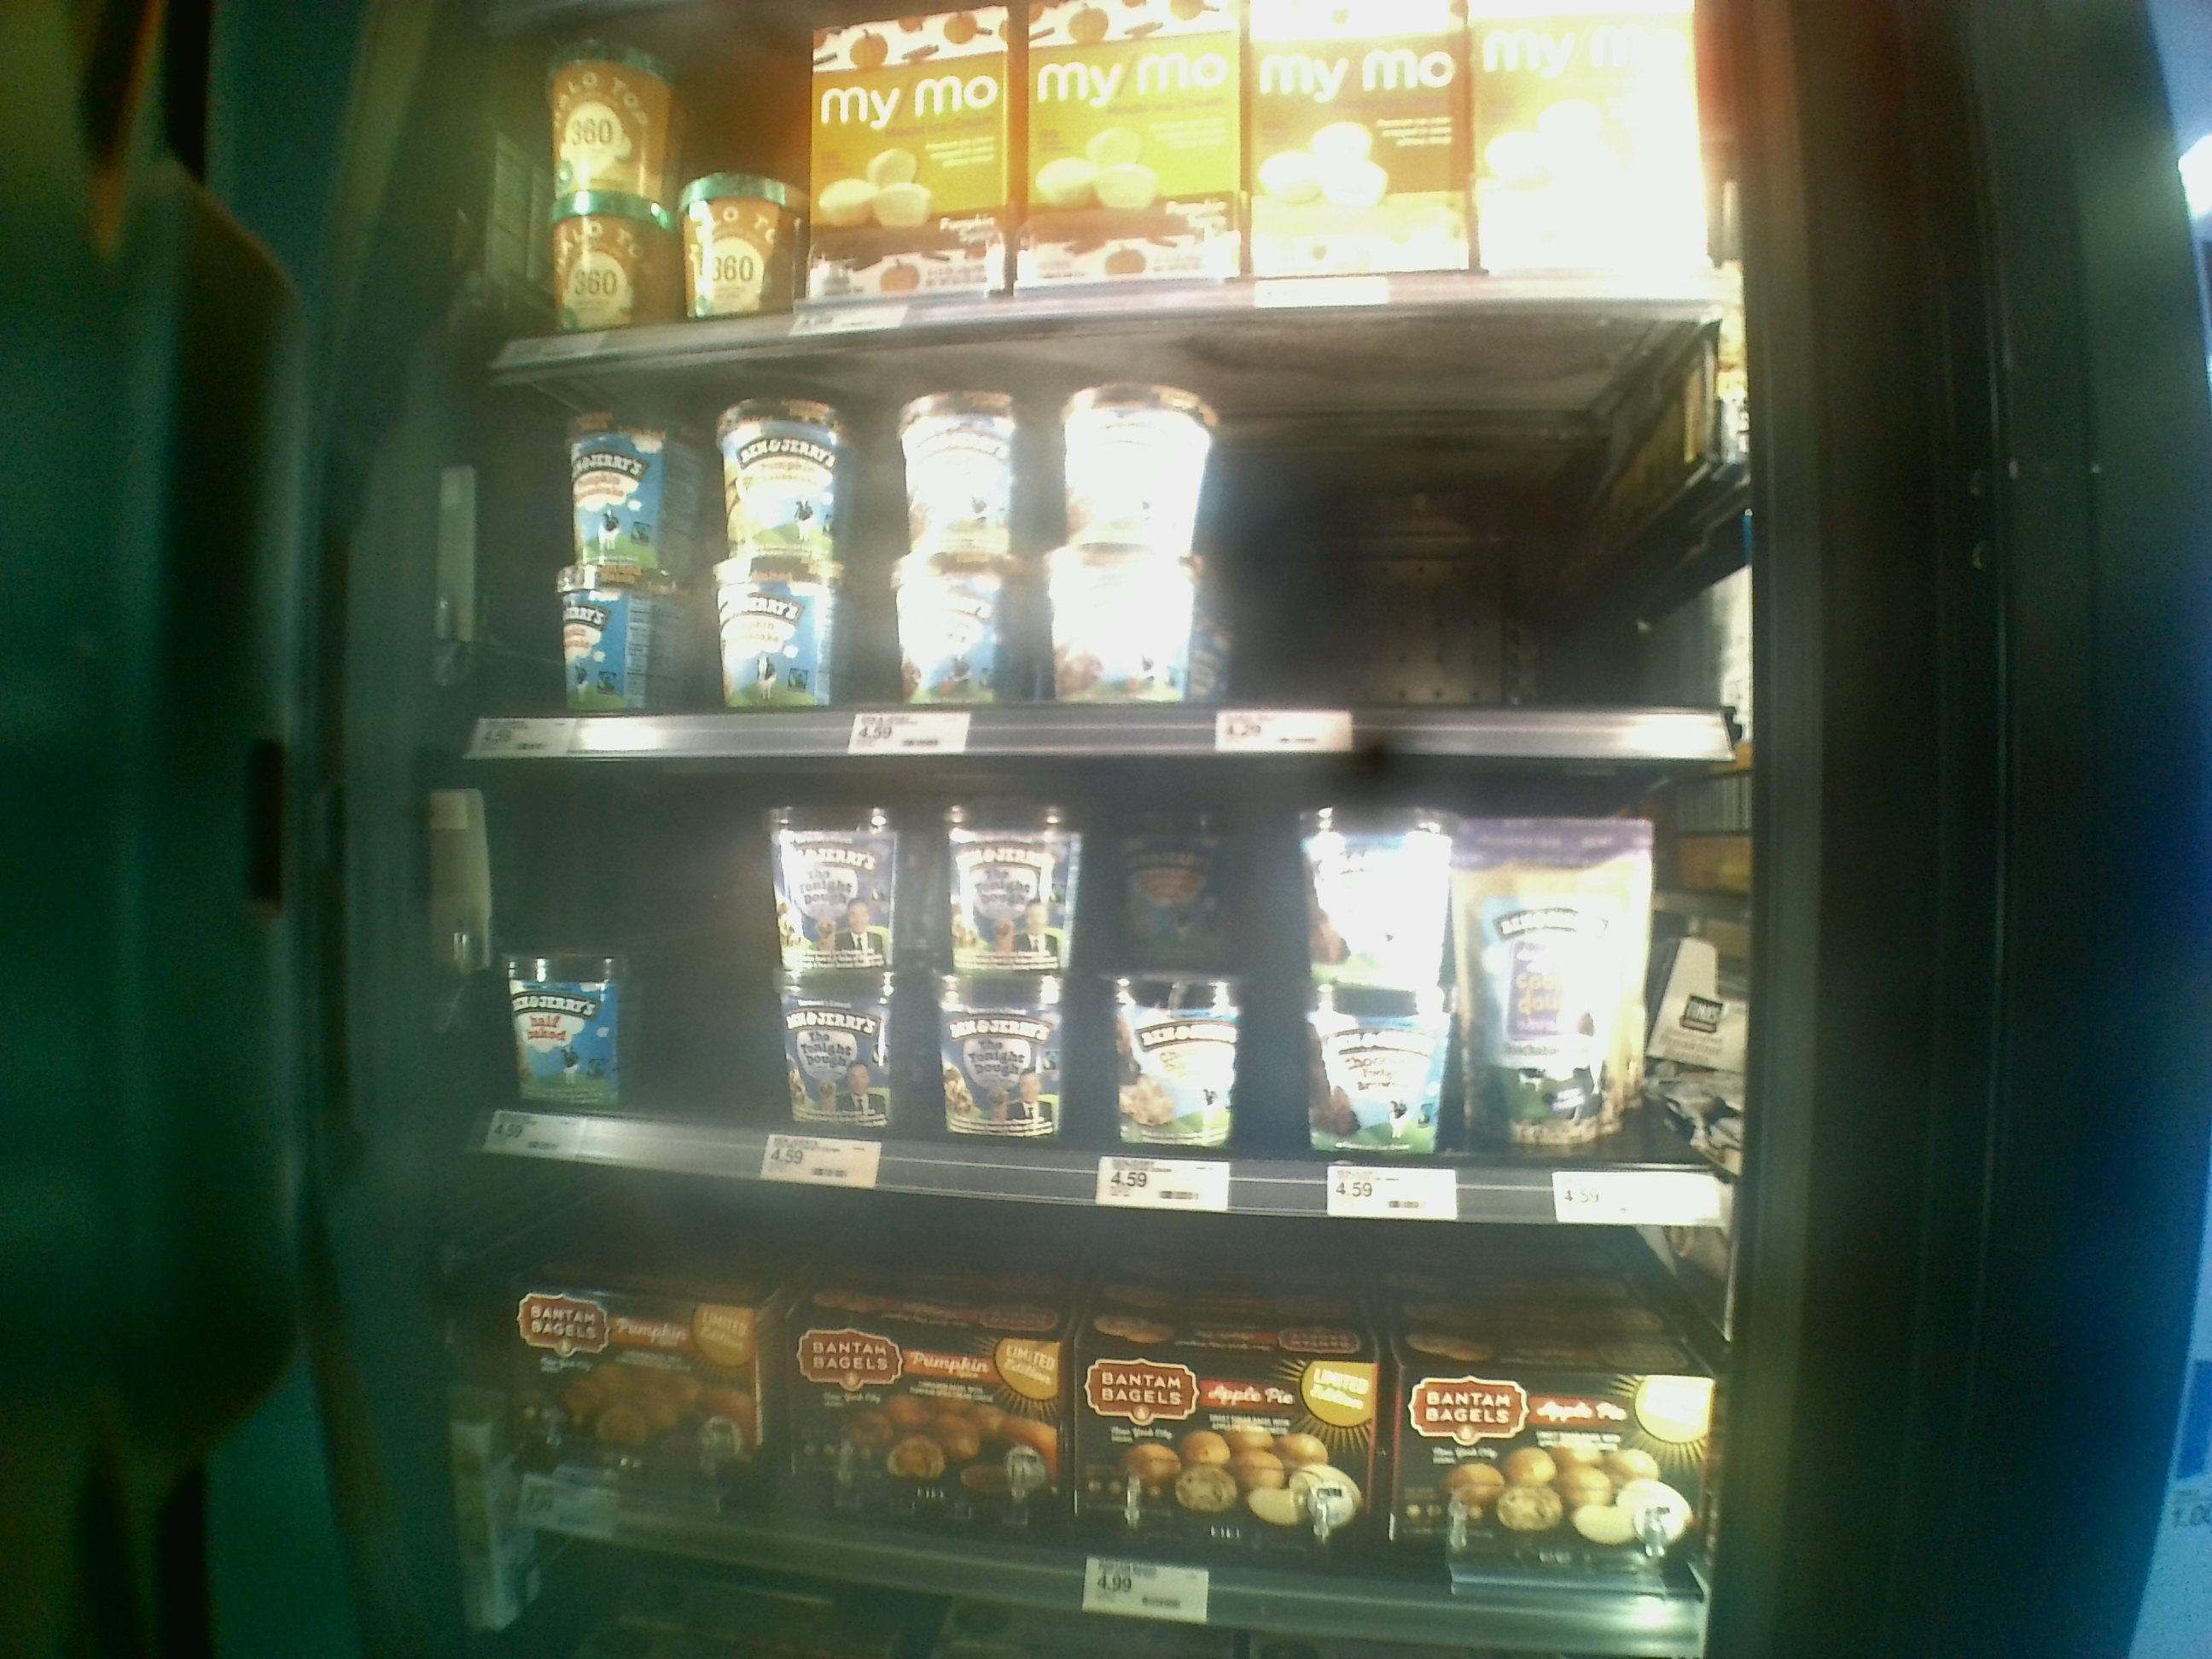shelf: (446, 723, 1731, 1215), (455, 1133, 1684, 1624), (455, 352, 1710, 753)
